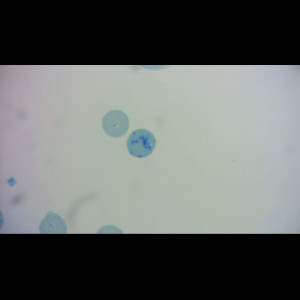aggregate reticulocyte: (125, 128, 157, 159)
erythrocyte: (101, 109, 131, 138)
